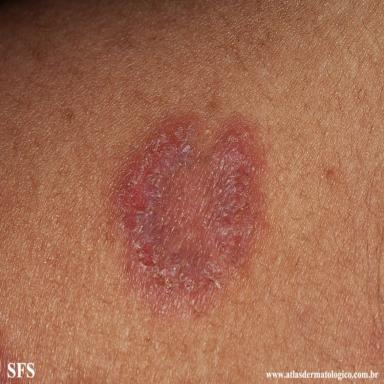Hailey-Hailey-Disease: (118, 114, 265, 313)
